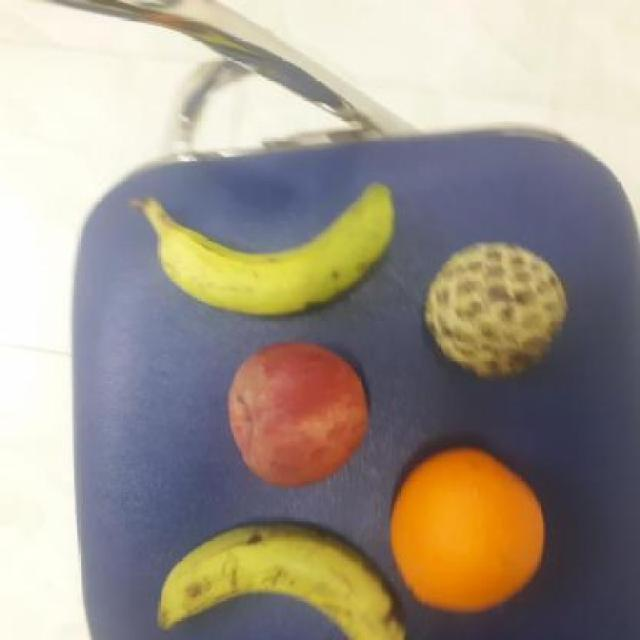apple: (222, 339, 373, 490)
banana: (137, 176, 401, 318), (155, 514, 407, 640)
oren: (383, 444, 557, 613)
sugar apple: (418, 237, 578, 380)
